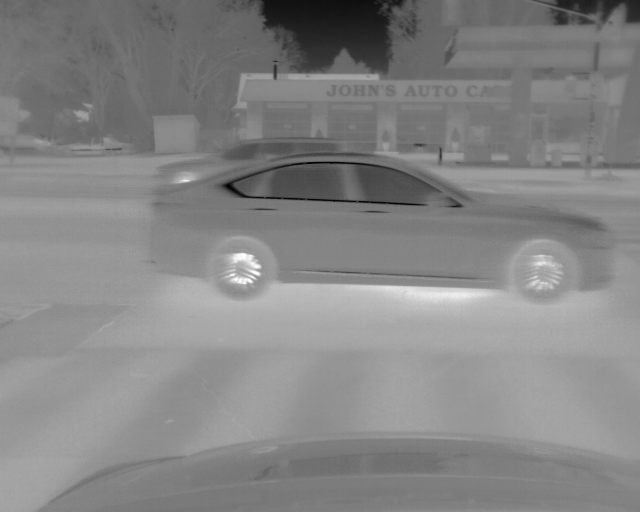car: (147, 153, 612, 304), (153, 136, 359, 195)
